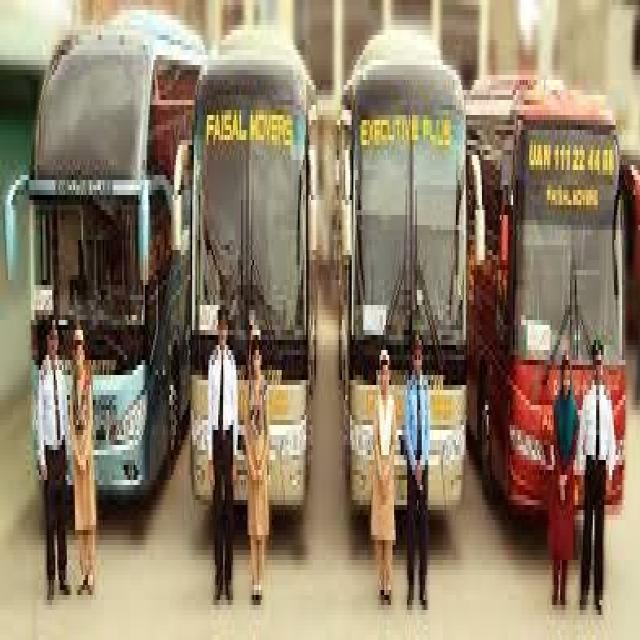bus: (462, 1, 640, 581), (17, 12, 195, 507), (331, 27, 473, 546), (187, 22, 315, 551)
